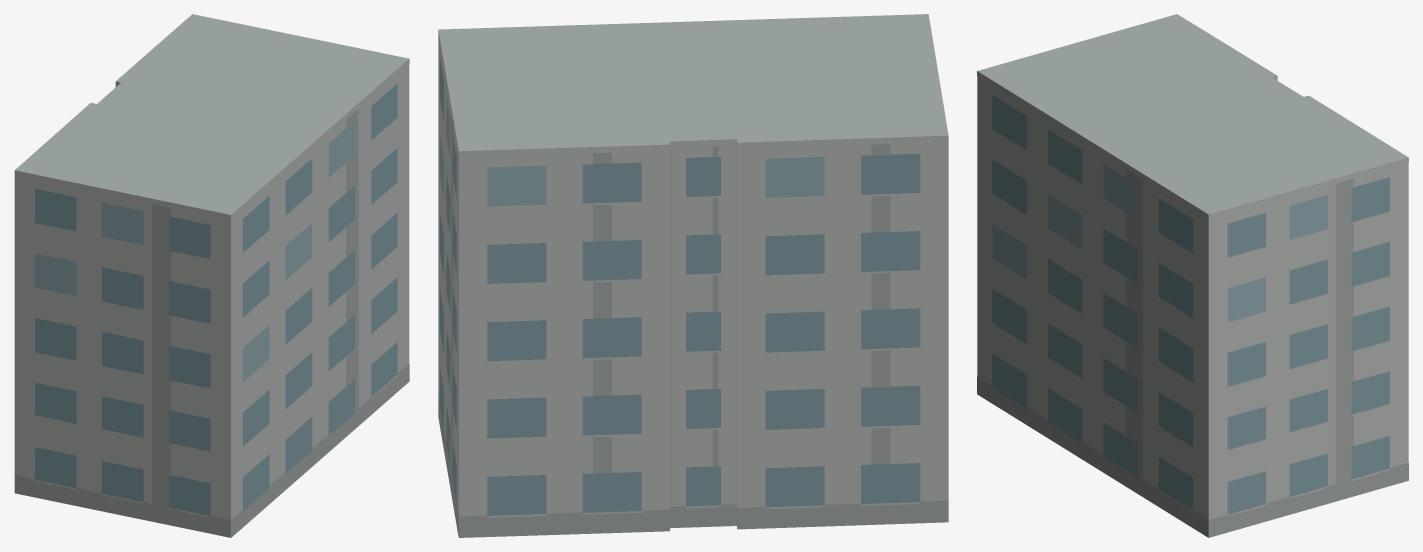
Rendered from survey-upis-32881686.glb.
3 renders of one model, left to right at view 1: azimuth 30°, elevation 25°; view 2: azimuth 150°, elevation 25°; view 3: azimuth 270°, elevation 25°, orthographic. The views are drawn at different scales.
Parts seen in each view (by area): view 1: survey-upis-32881686.tmp; view 2: survey-upis-32881686.tmp; view 3: survey-upis-32881686.tmp.
Part boxes in pixels (box(x1,y1,x2,y2)): survey-upis-32881686.tmp: box(14, 14, 409, 537); survey-upis-32881686.tmp: box(438, 14, 948, 537); survey-upis-32881686.tmp: box(977, 14, 1408, 537).
Bounding box in the file's own units: 19.3 × 14.5 × 17.55.
